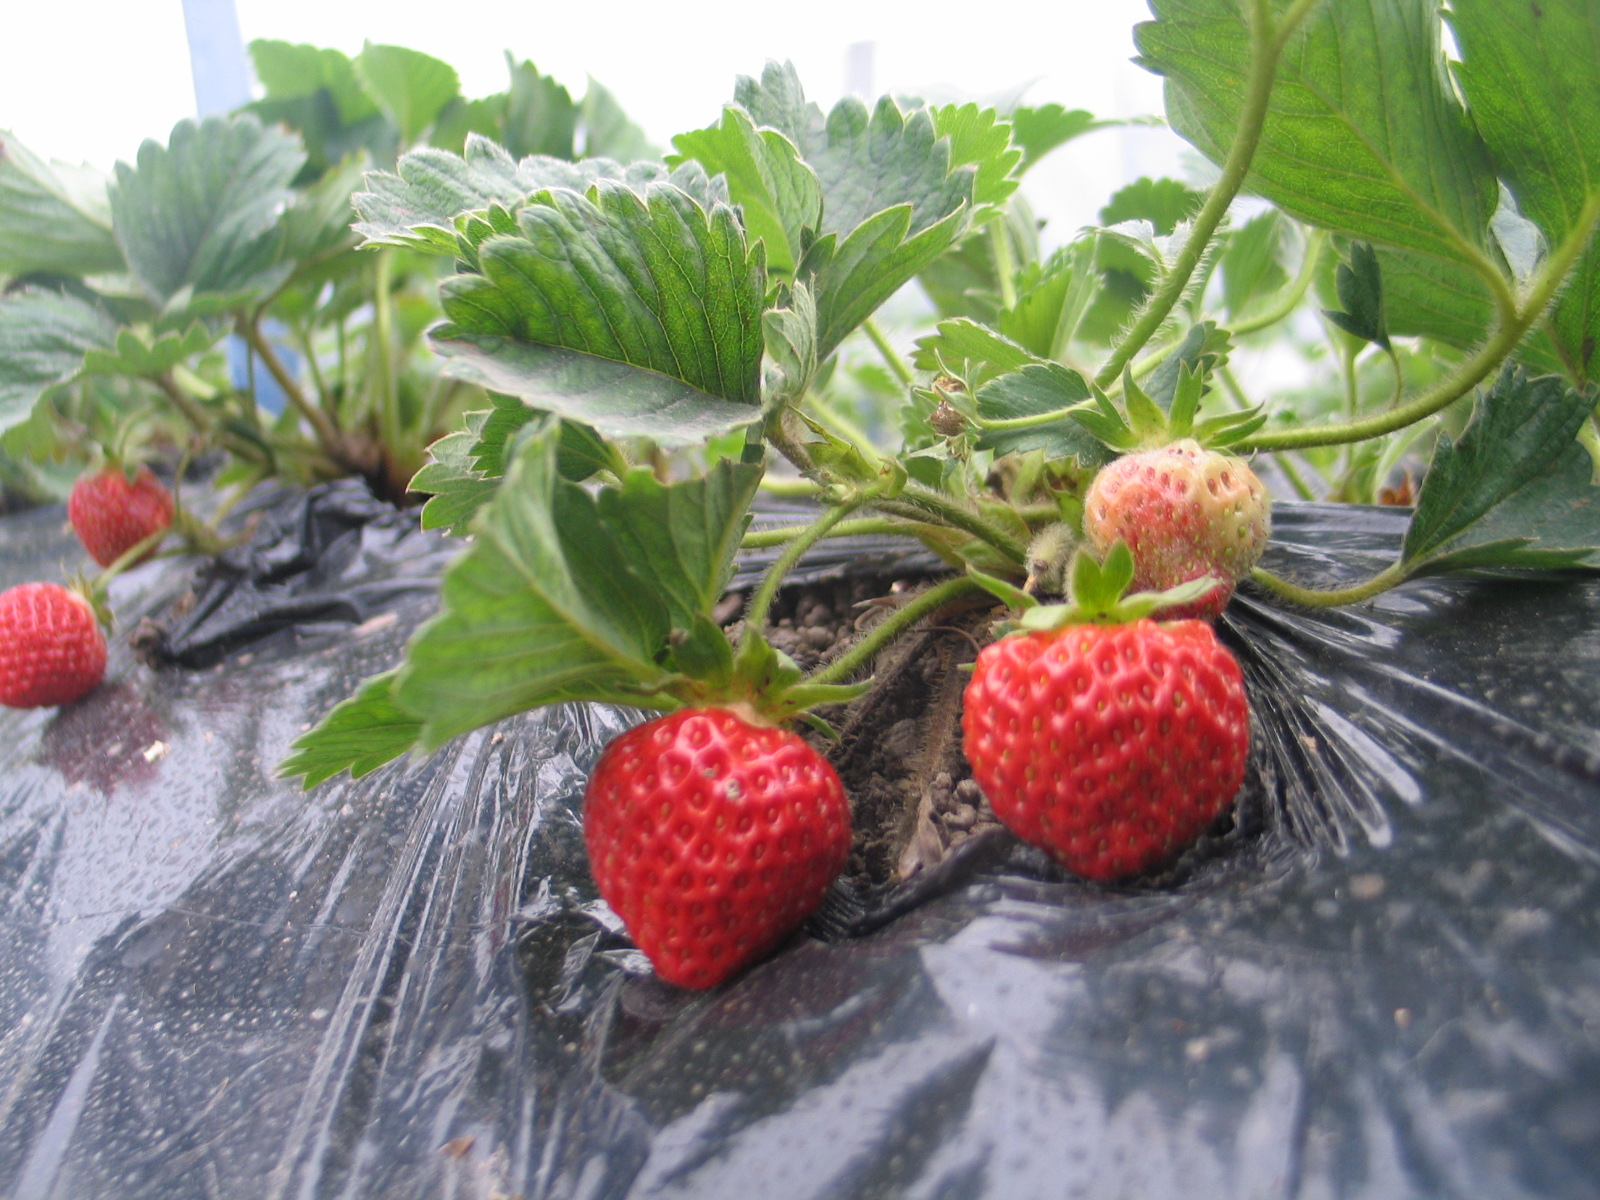StrawberryCircular: (569, 700, 864, 1003), (963, 618, 1259, 887)
StrawberryIrremovable: (1078, 436, 1272, 618)
StrawberryOther: (4, 570, 113, 724), (71, 458, 180, 579)
StrawberryRemovable: (574, 700, 860, 996), (964, 621, 1256, 886), (3, 568, 113, 718), (68, 458, 180, 576)
